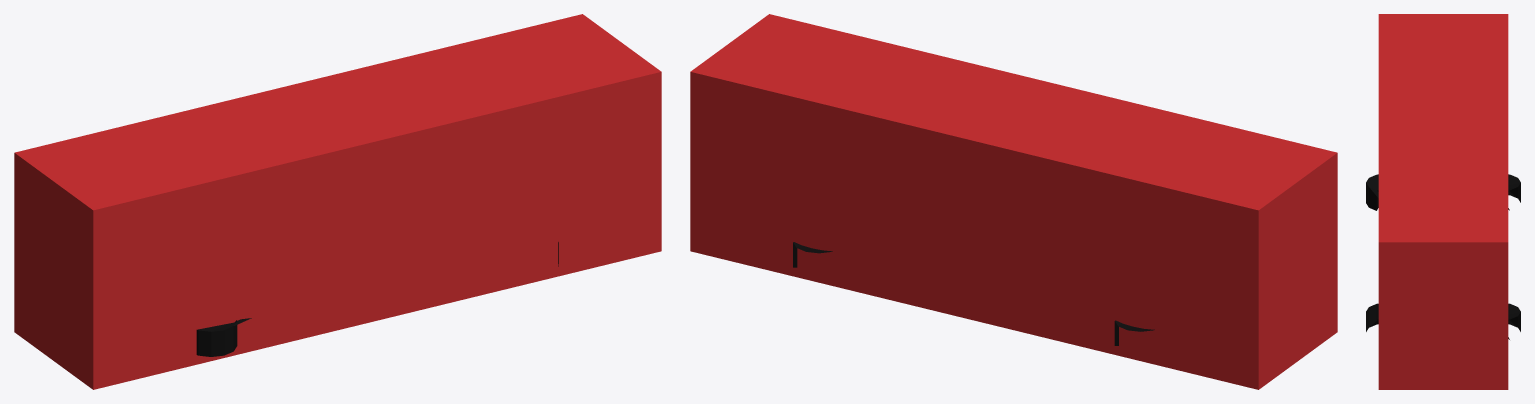
Rendered from hk_double_decker_bus.obj.
The picture shows the model from 3 angles, left to right: view 1: azimuth 30°, elevation 25°; view 2: azimuth 150°, elevation 25°; view 3: azimuth 270°, elevation 25°; orthographic projection. The views are drawn at different scales.
Visible parts, largest first — view 1: lower_deck, wheel_-3.0_1.1; view 2: lower_deck; view 3: lower_deck, wheel_-3.0_1.1, wheel_-3.0_-1.1, wheel_3.0_-1.1, wheel_3.0_1.1.
Boxes of the visible parts, left/top/right/bottom form: lower_deck: left=14, top=14, right=661, bottom=389; wheel_-3.0_1.1: left=196, top=318, right=251, bottom=356; lower_deck: left=690, top=14, right=1337, bottom=389; lower_deck: left=1378, top=14, right=1508, bottom=389; wheel_-3.0_1.1: left=1366, top=174, right=1378, bottom=210; wheel_-3.0_-1.1: left=1508, top=174, right=1520, bottom=210; wheel_3.0_-1.1: left=1508, top=303, right=1520, bottom=339; wheel_3.0_1.1: left=1366, top=303, right=1378, bottom=331.
Bounding box in the file's own units: 10.6 × 3.2 × 3.04.
